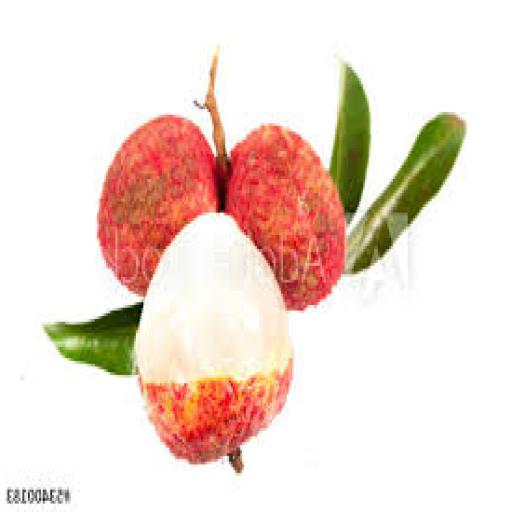lychee: (135, 213, 291, 461), (225, 126, 345, 310), (98, 115, 218, 296)
